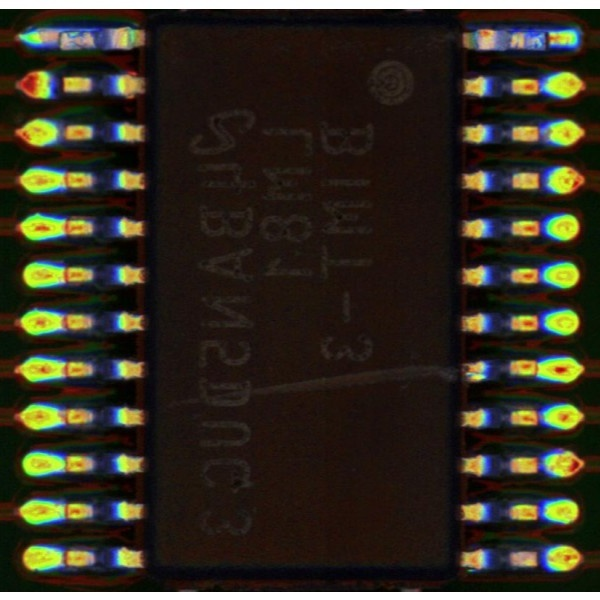Bad_podu: (45, 32, 72, 44), (535, 36, 562, 45)
